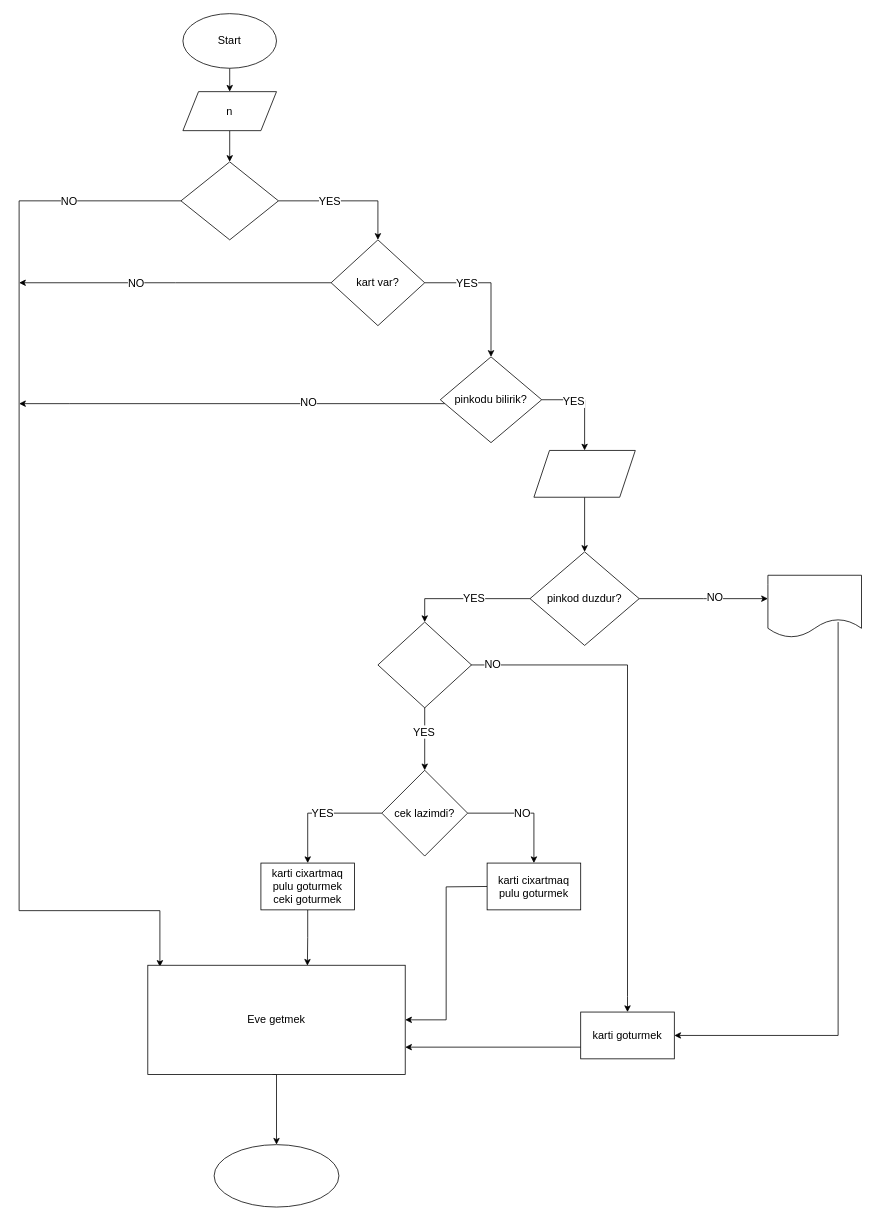
Some shapes in this 875 by 1221 pixel diagram are drawn without their labels. The box of each missing label's shape, as (x1, y1, x2, y2) in pixels:
bankomat var?: (180, 161, 278, 240)
END: (213, 1144, 339, 1207)
n mebleg var?: (377, 621, 472, 708)
pinkod sehfdi kart bloka duwdu: (767, 574, 862, 638)
pinkodun daxili: (533, 450, 635, 497)
